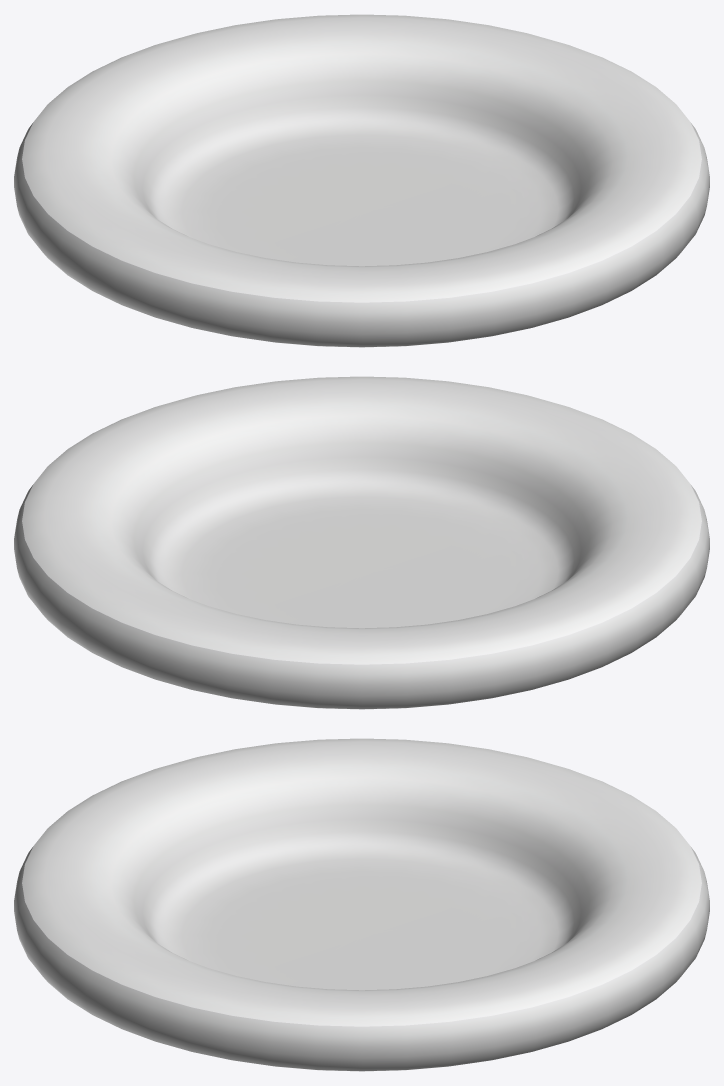
Rendered from Plate.fbx.
The picture shows the model from 3 angles, top to bottom: view 1: azimuth 30°, elevation 25°; view 2: azimuth 150°, elevation 25°; view 3: azimuth 270°, elevation 25°; orthographic projection.
Parts seen in each view (by area): view 1: Plate; view 2: Plate; view 3: Plate.
Part boxes in pixels (x1=…): Plate: x1=14, y1=14, x2=709, y2=347; Plate: x1=14, y1=376, x2=709, y2=709; Plate: x1=14, y1=738, x2=709, y2=1071.
Bounding box in the file's own units: 483 × 73.38 × 483.
